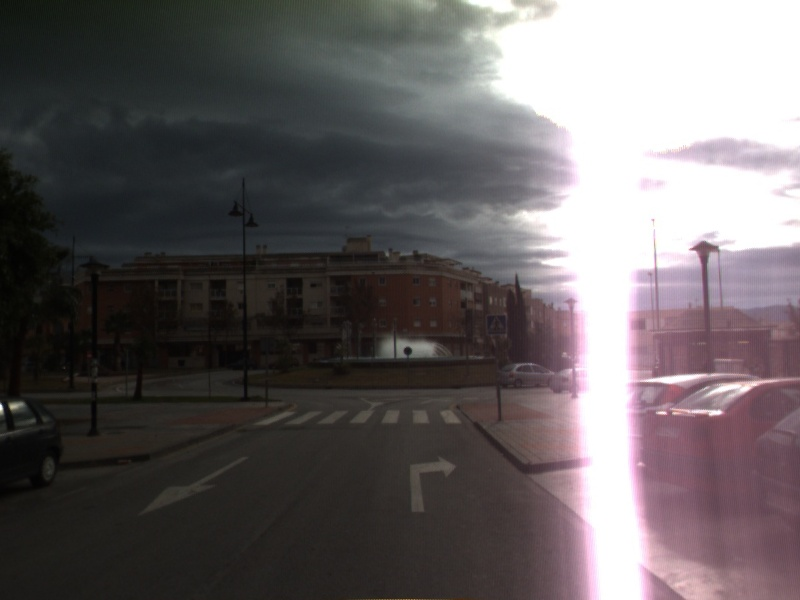RIGHT: (408, 453, 459, 514)
